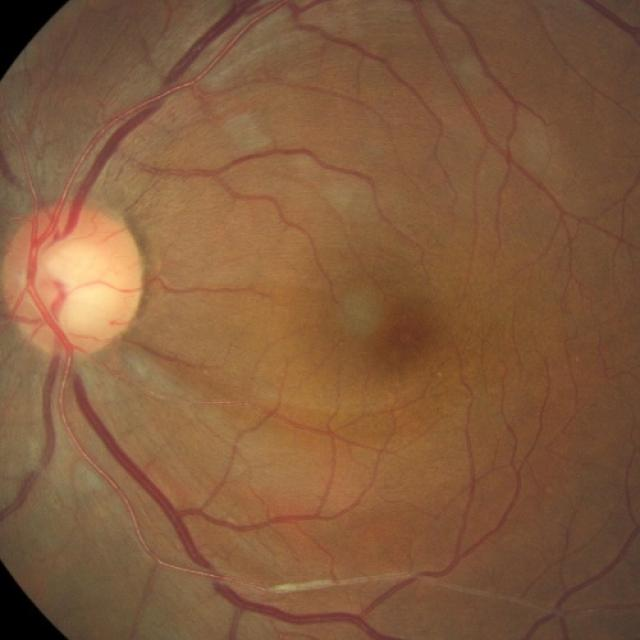OC: (40, 244, 113, 328)
OD: (0, 204, 144, 354)
